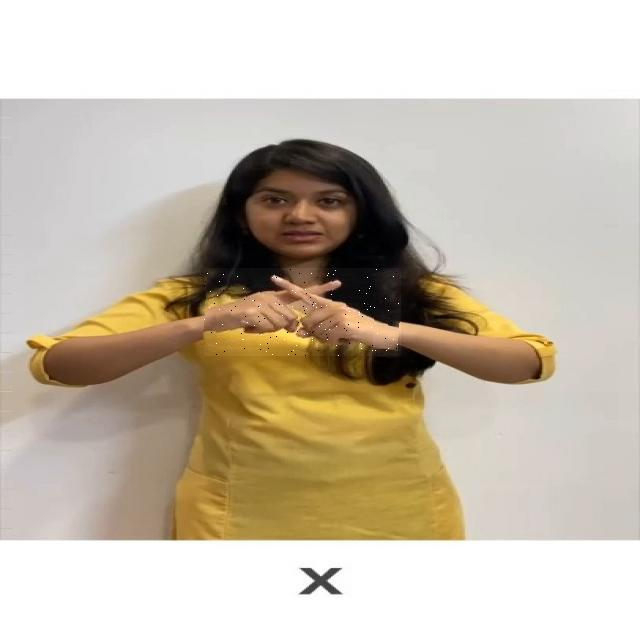X: (204, 268, 401, 356)
